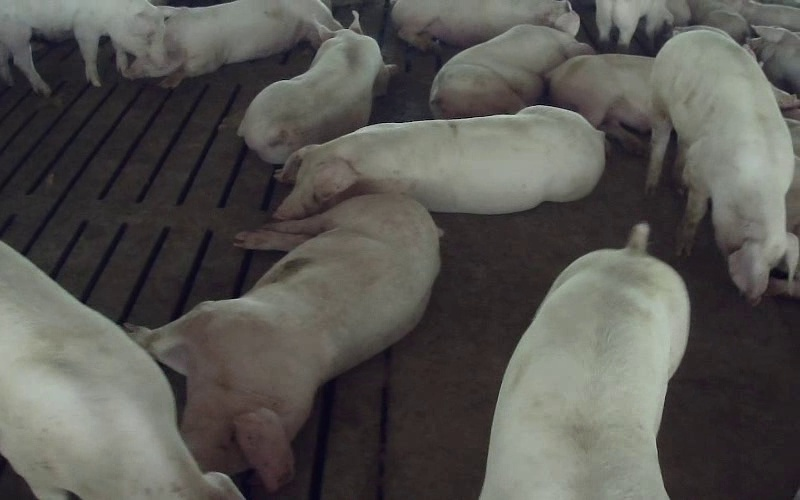pig: (128, 195, 439, 490), (481, 224, 689, 499), (646, 31, 797, 302), (274, 106, 604, 219), (238, 11, 395, 163), (429, 10, 594, 117), (0, 0, 175, 95), (546, 54, 653, 154), (391, 0, 571, 49)
